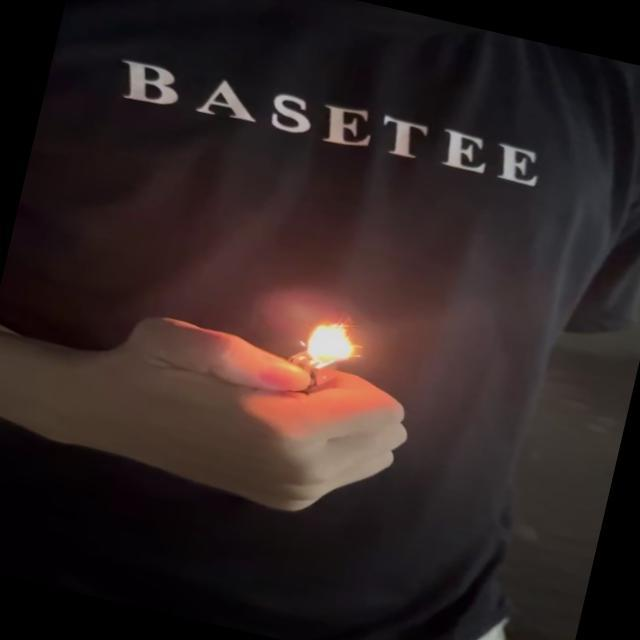Fire: (303, 314, 370, 373)
